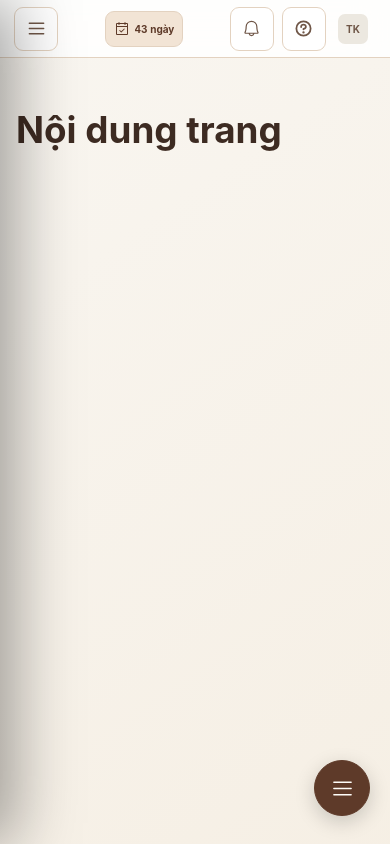
Test: Feature search › opens the quick menu with four owner destinations and closes after navigation
Step 1. Click the button named "Mở menu nhanh" → (342, 788), box [314,760,370,816]
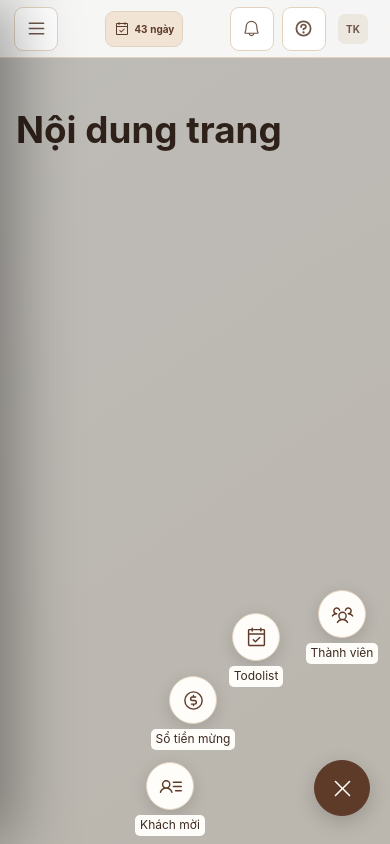
Step 2. Click the link "Khách mời" → (170, 799), box [135,762,205,836]
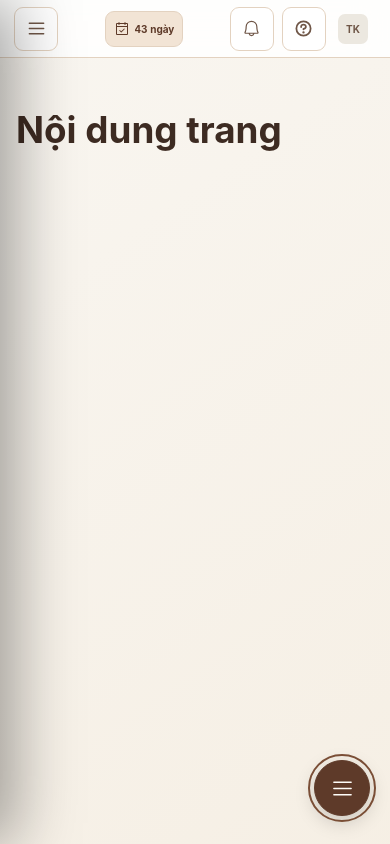
Now the button named "Mở menu nhanh" is collapsed, box [314,760,370,816]
